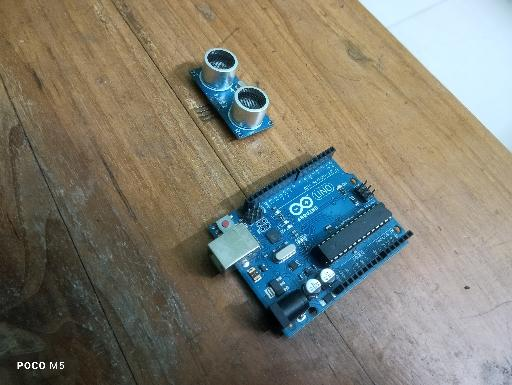Arduino: (207, 146, 414, 340)
sensor: (188, 48, 275, 140)
